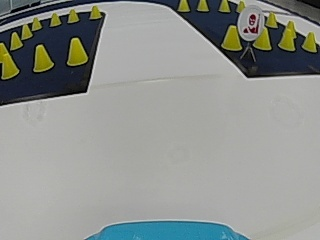evil: (237, 6, 263, 40)
